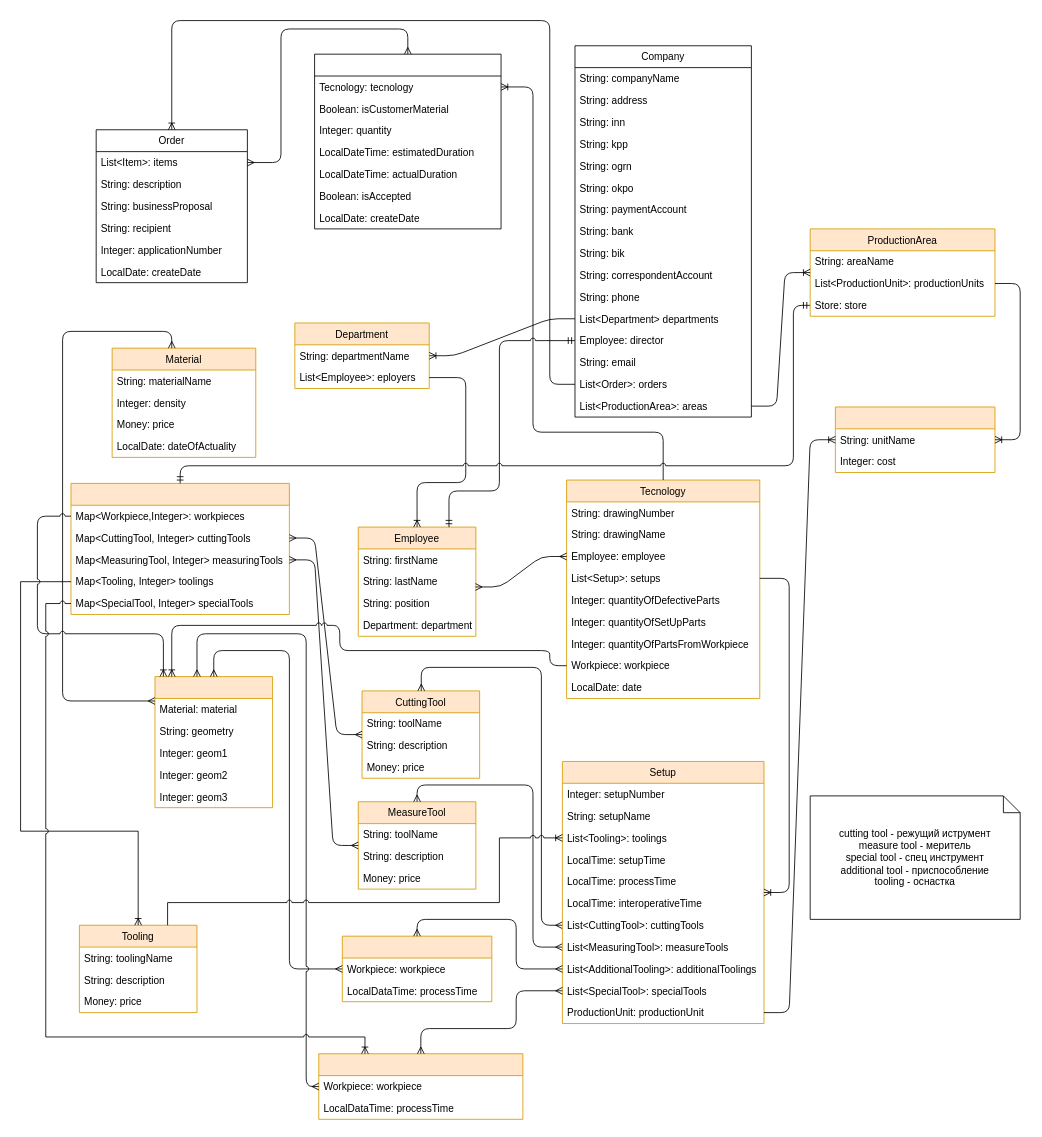
Image size: 1042x1137. Some labels were removed from this diagram. Each missing label, with the box of its shape:
AdditionalTooling: (341, 935, 492, 1002)
Item: (314, 53, 501, 229)
ProductionUnit: (835, 406, 995, 472)
SpecialTool: (318, 1053, 523, 1119)
Store: (70, 483, 289, 614)
Workpiece: (154, 676, 273, 808)
